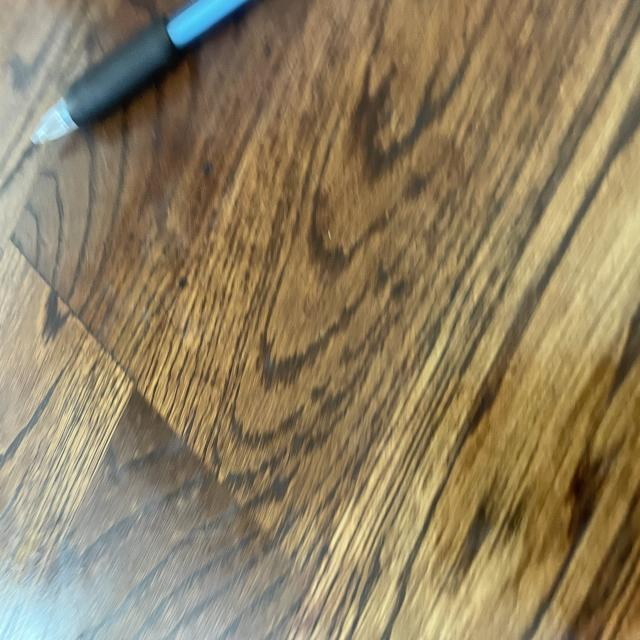mechanical-pencils: (32, 1, 254, 160)
